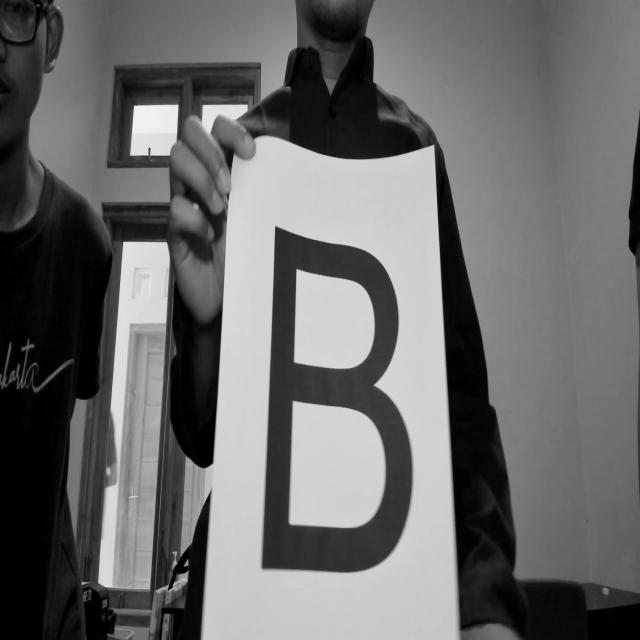b: (255, 219, 420, 588)
